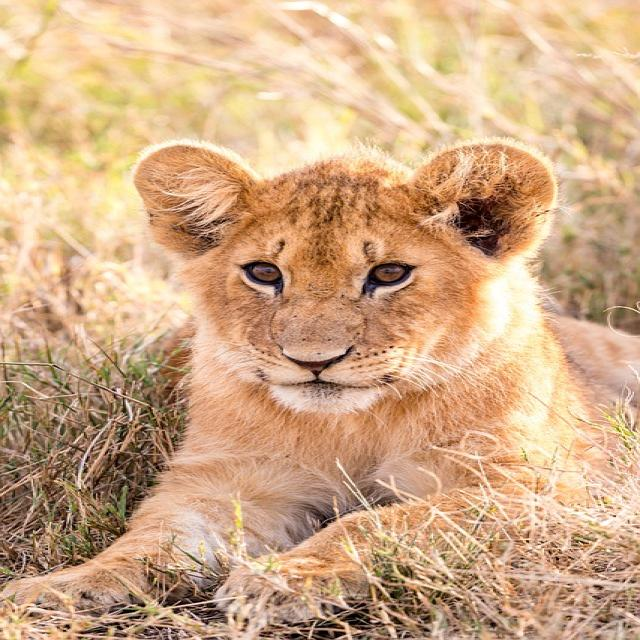Carnivorous: (0, 140, 640, 640)
